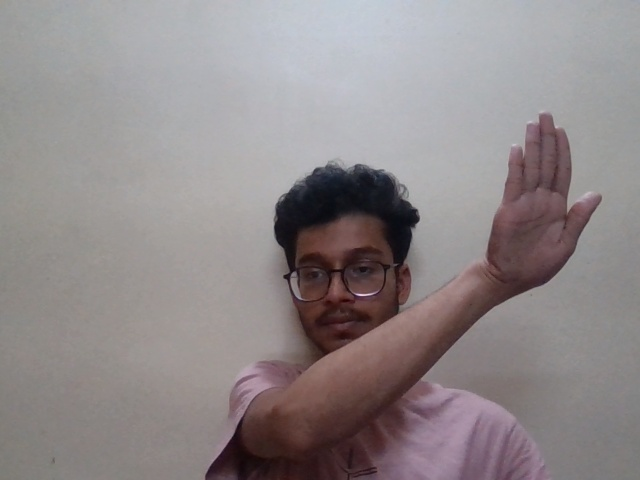hello: (484, 109, 624, 308)
